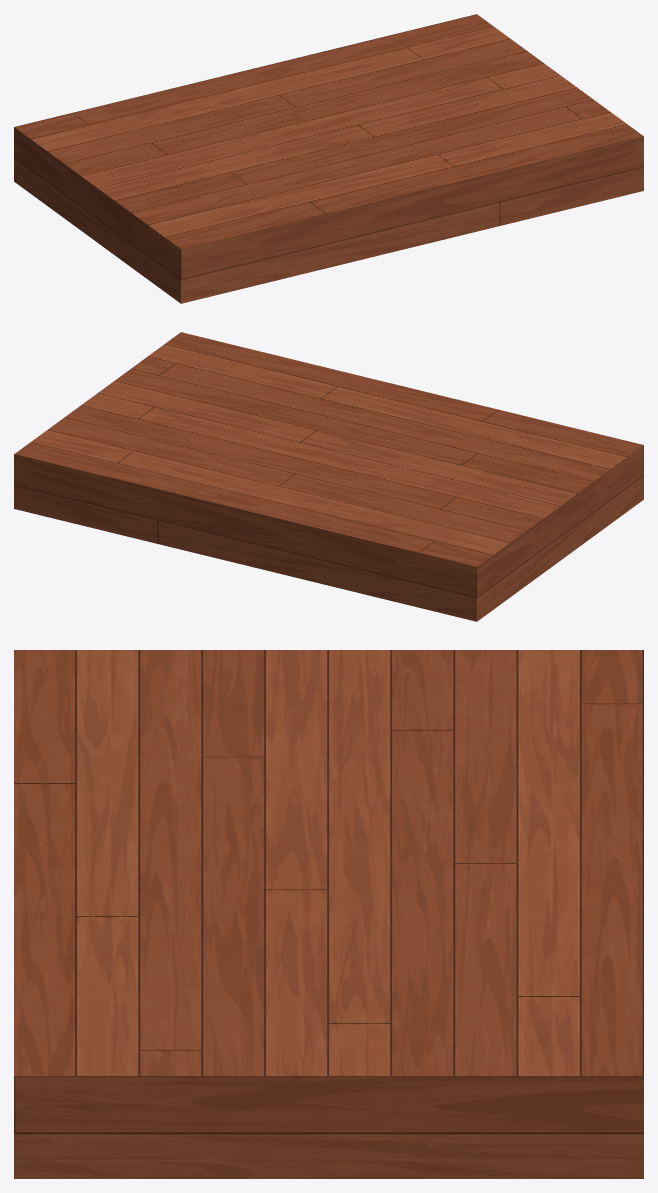
File: SM_Theater_Deck_StairTop.fbx
The picture shows the model from 3 angles, top to bottom: view 1: azimuth 30°, elevation 25°; view 2: azimuth 150°, elevation 25°; view 3: azimuth 270°, elevation 25°; orthographic projection. The views are drawn at different scales.
Visible parts, largest first — view 1: SM_Theater_Deck_StairTop_LOD0; view 2: SM_Theater_Deck_StairTop_LOD0; view 3: SM_Theater_Deck_StairTop_LOD0.
Boxes of the visible parts, bbox=[...] form: SM_Theater_Deck_StairTop_LOD0: bbox=[14, 14, 643, 303]; SM_Theater_Deck_StairTop_LOD0: bbox=[14, 332, 643, 621]; SM_Theater_Deck_StairTop_LOD0: bbox=[14, 650, 643, 1178].
Size of what is drawn, in the model's own units: 4 by 0.45 by 2.5.
